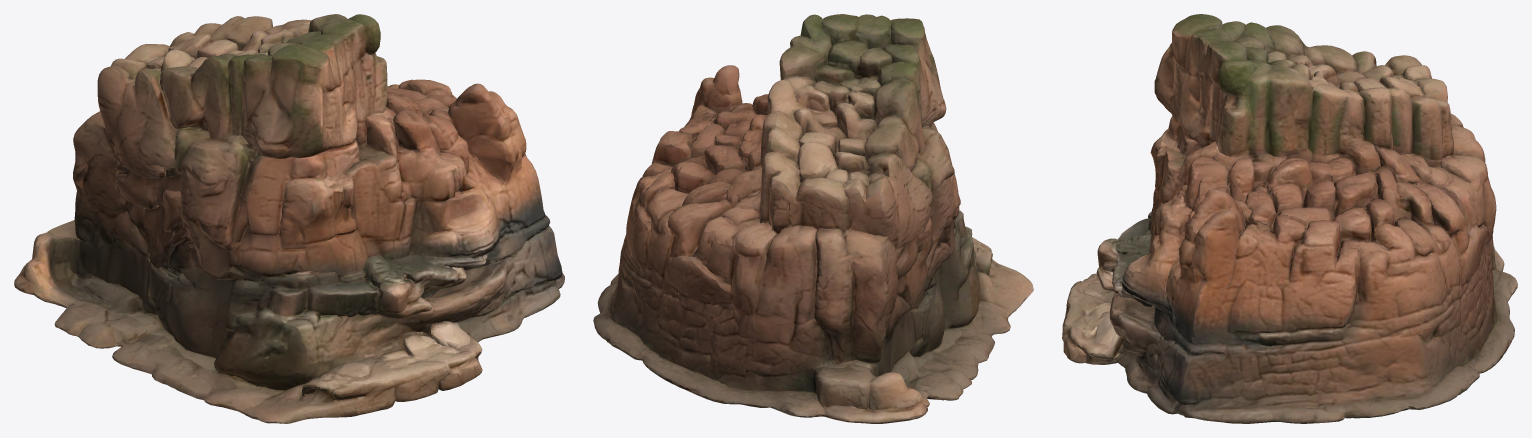
Rendered from underwater-stone-v9.glb.
The picture shows the model from 3 angles, left to right: view 1: azimuth 30°, elevation 25°; view 2: azimuth 150°, elevation 25°; view 3: azimuth 270°, elevation 25°; orthographic projection. The views are drawn at different scales.
Visible parts, largest first — view 1: geometry_0; view 2: geometry_0; view 3: geometry_0.
Part boxes in pixels (<box>): geometry_0: <box>14,14,564,423</box>; geometry_0: <box>593,14,1033,423</box>; geometry_0: <box>1062,14,1517,423</box>.
Bounding box in the file's own units: 1.98 × 1.5 × 1.98.
Materials: 1 (1 with a texture image).
